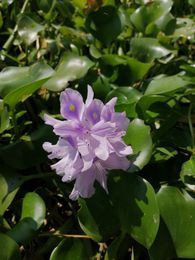water_hyacinth: (0, 24, 195, 260)
